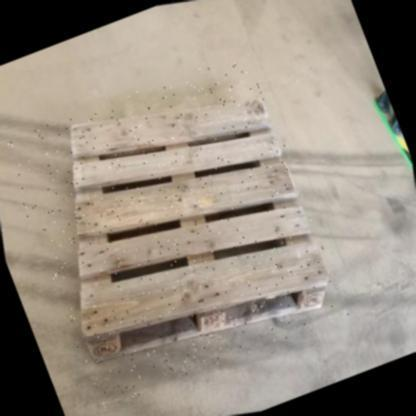pallet: (67, 92, 333, 366)
